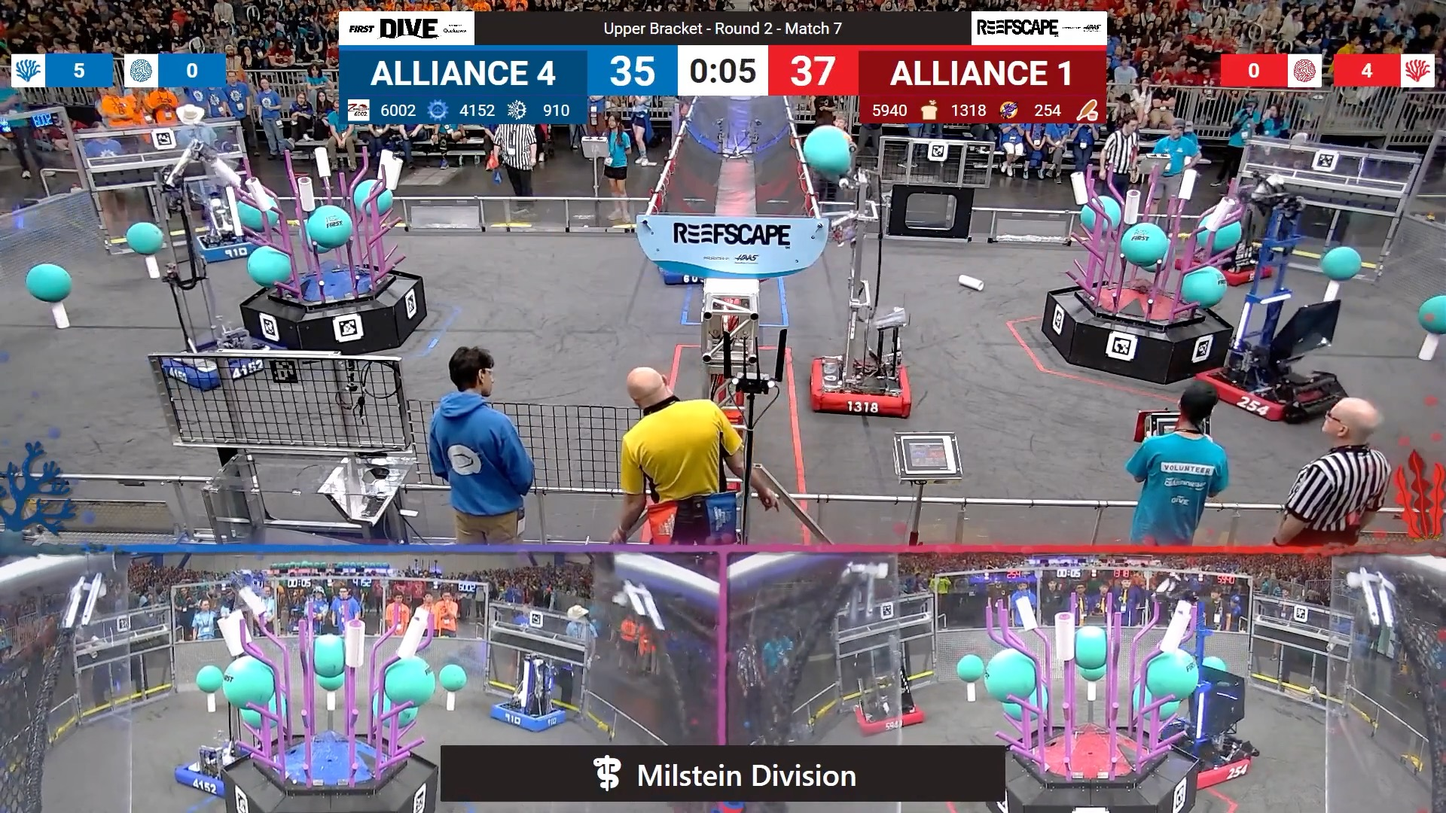bumpers: (1193, 366, 1347, 431), (801, 356, 925, 423), (163, 341, 272, 393), (1168, 742, 1261, 791), (174, 743, 245, 793), (850, 698, 933, 737), (486, 703, 571, 736), (186, 235, 269, 268), (1202, 263, 1277, 288), (651, 264, 700, 286)
